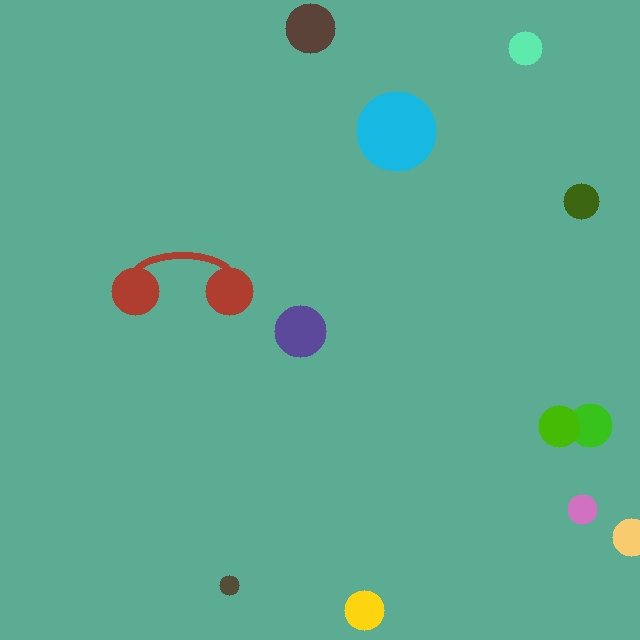over_ear: (107, 236, 257, 319)
